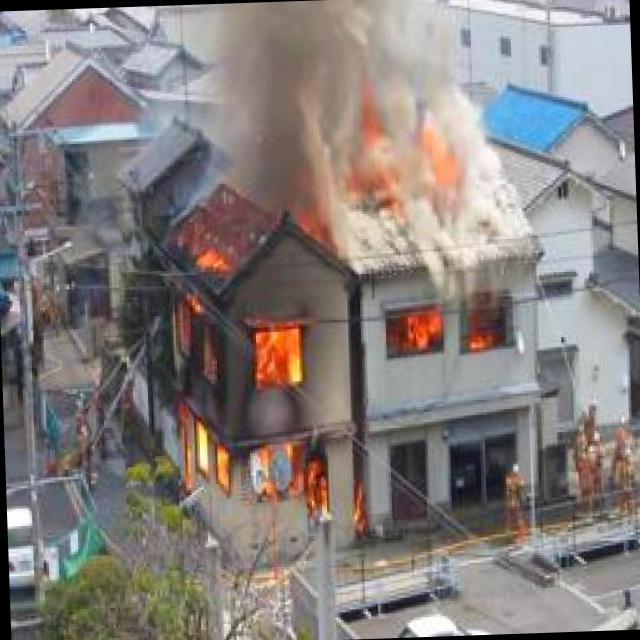Fire: (158, 282, 368, 546), (387, 303, 442, 357)
Smoke: (210, 0, 535, 274)
